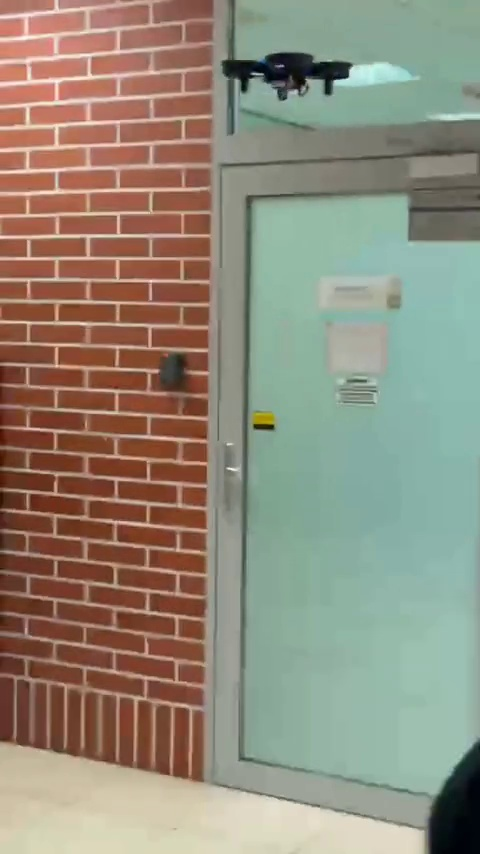drone: (218, 60, 352, 97)
